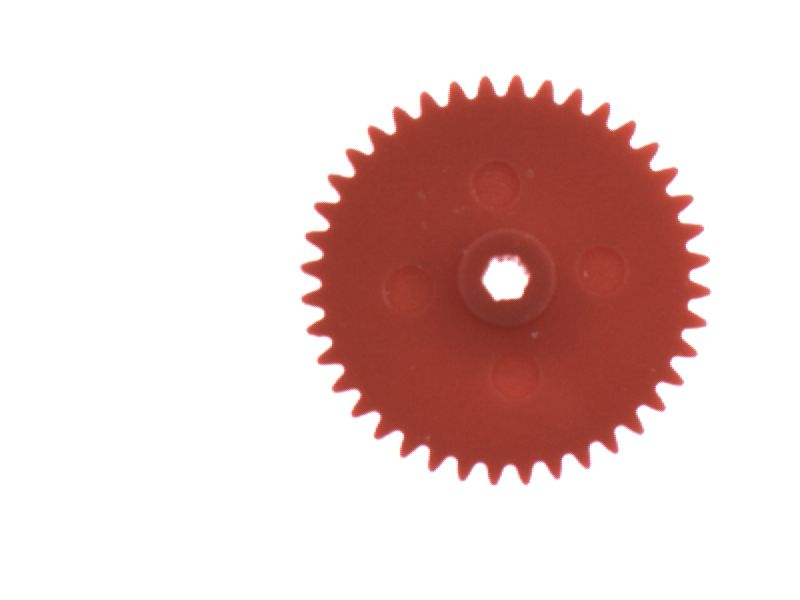good_product: (287, 65, 725, 498)
